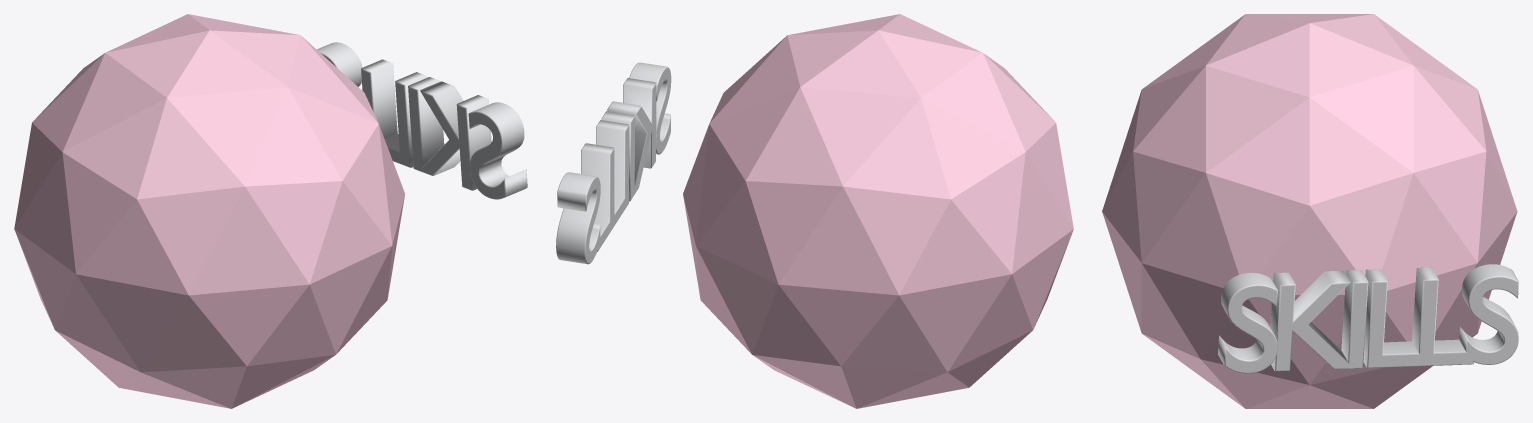
The model's file is skill_orbit.glb.
The picture shows the model from 3 angles, left to right: view 1: azimuth 30°, elevation 25°; view 2: azimuth 150°, elevation 25°; view 3: azimuth 270°, elevation 25°; orthographic projection. The views are drawn at different scales.
Parts seen in each view (by area): view 1: Orbit_Skills, Text; view 2: Orbit_Skills, Text; view 3: Orbit_Skills, Text.
Boxes of the visible parts, x1,y1,x2,y2 form: Orbit_Skills: [14, 14, 404, 408]; Text: [317, 42, 527, 199]; Orbit_Skills: [683, 14, 1073, 408]; Text: [556, 62, 671, 264]; Orbit_Skills: [1102, 14, 1517, 408]; Text: [1218, 264, 1518, 373].
Size of the model in its own units: 3.95 by 3.1 by 3.11.
